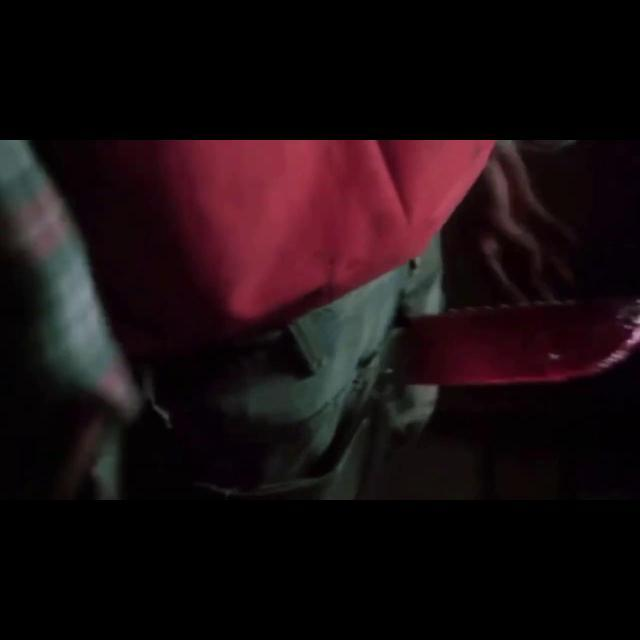blood: (400, 298, 640, 385)
